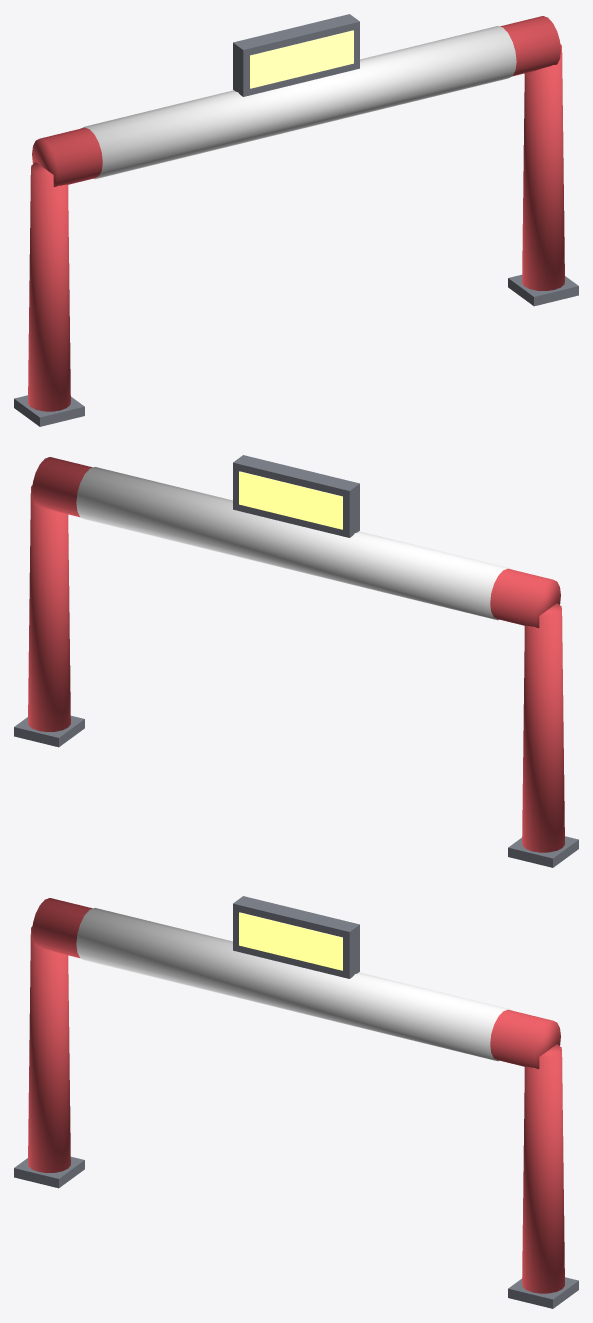
Rendered from finish_arch.glb.
3 views of the same model, one above another, from view 1: azimuth 30°, elevation 25°; view 2: azimuth 150°, elevation 25°; view 3: azimuth 330°, elevation 25° (orthographic).
Parts seen in each view (by area): view 1: finish_arch; view 2: finish_arch; view 3: finish_arch.
Boxes of the visible parts, bbox=[...] form: finish_arch: bbox=[14, 14, 578, 426]; finish_arch: bbox=[14, 455, 578, 867]; finish_arch: bbox=[14, 896, 578, 1308].
Bounding box in the file's own units: 12 × 6.8 × 1.04.
